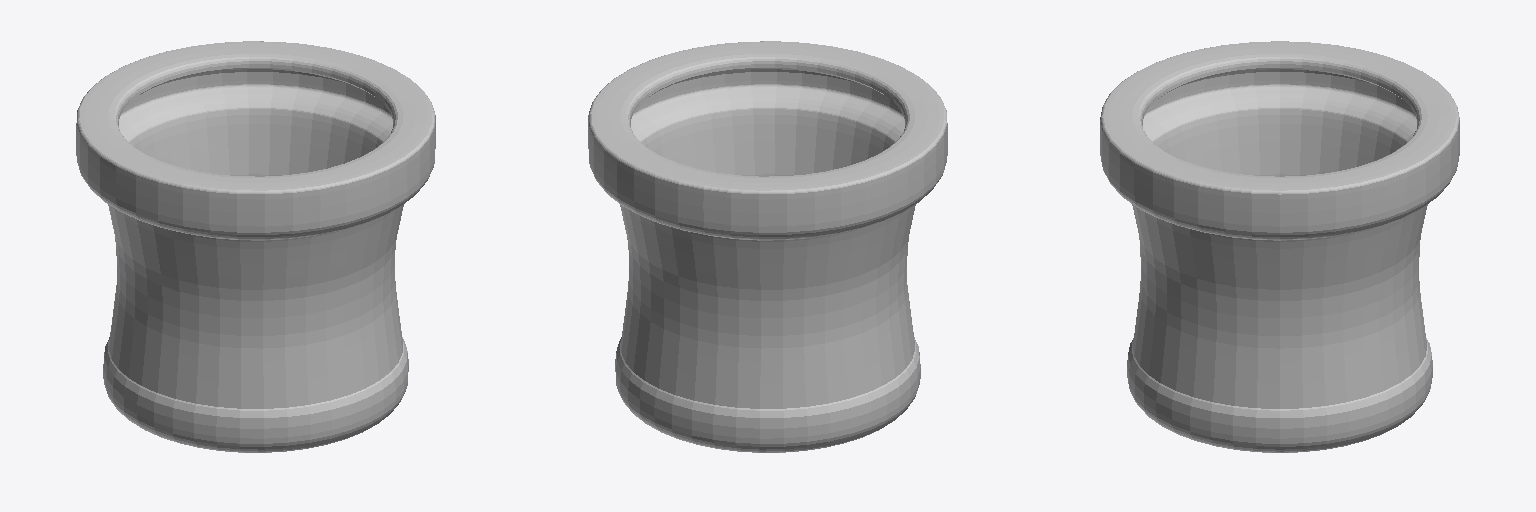
The model's file is pot.obj.
3 views of the same model, side by side, from view 1: azimuth 30°, elevation 25°; view 2: azimuth 150°, elevation 25°; view 3: azimuth 270°, elevation 25° (orthographic).
Parts seen in each view (by area): view 1: pCylinder2; view 2: pCylinder2; view 3: pCylinder2.
Part boxes in pixels (x1,y1,x2,y2): pCylinder2: (76,41,435,452); pCylinder2: (588,41,947,452); pCylinder2: (1100,41,1459,452).
Size of the model in its own units: 2.58 by 2.22 by 2.58.